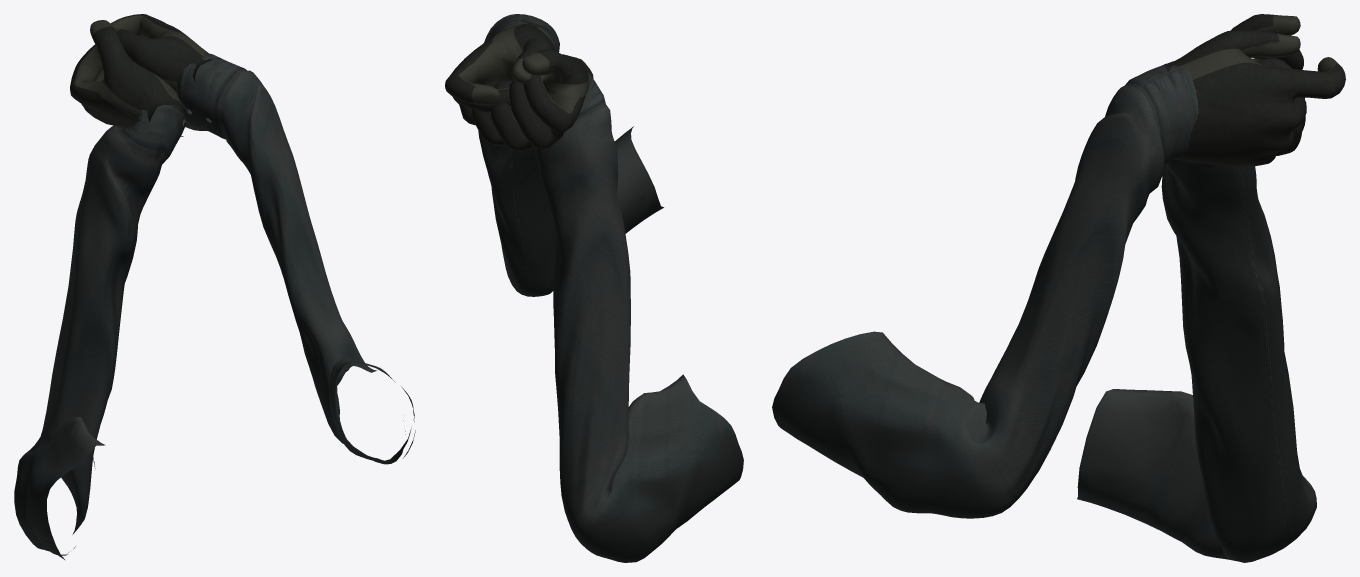
File: pistol-hands-mobile.glb
The picture shows the model from 3 angles, left to right: view 1: azimuth 30°, elevation 25°; view 2: azimuth 150°, elevation 25°; view 3: azimuth 270°, elevation 25°; orthographic projection. The views are drawn at different scales.
Visible parts, largest first — view 1: LeftArmMesh, RightArmMesh; view 2: LeftArmMesh, RightArmMesh; view 3: RightArmMesh, LeftArmMesh.
Part boxes in pixels (<box>): LeftArmMesh: <box>14,20,188,560</box>; RightArmMesh: <box>110,14,415,464</box>; LeftArmMesh: <box>472,49,743,562</box>; RightArmMesh: <box>445,14,663,296</box>; RightArmMesh: <box>772,29,1345,518</box>; LeftArmMesh: <box>1077,14,1316,562</box>.
Bounding box in the file's own units: 0.7015 × 1.17 × 1.04.
Materials: 4 (4 with a texture image).
